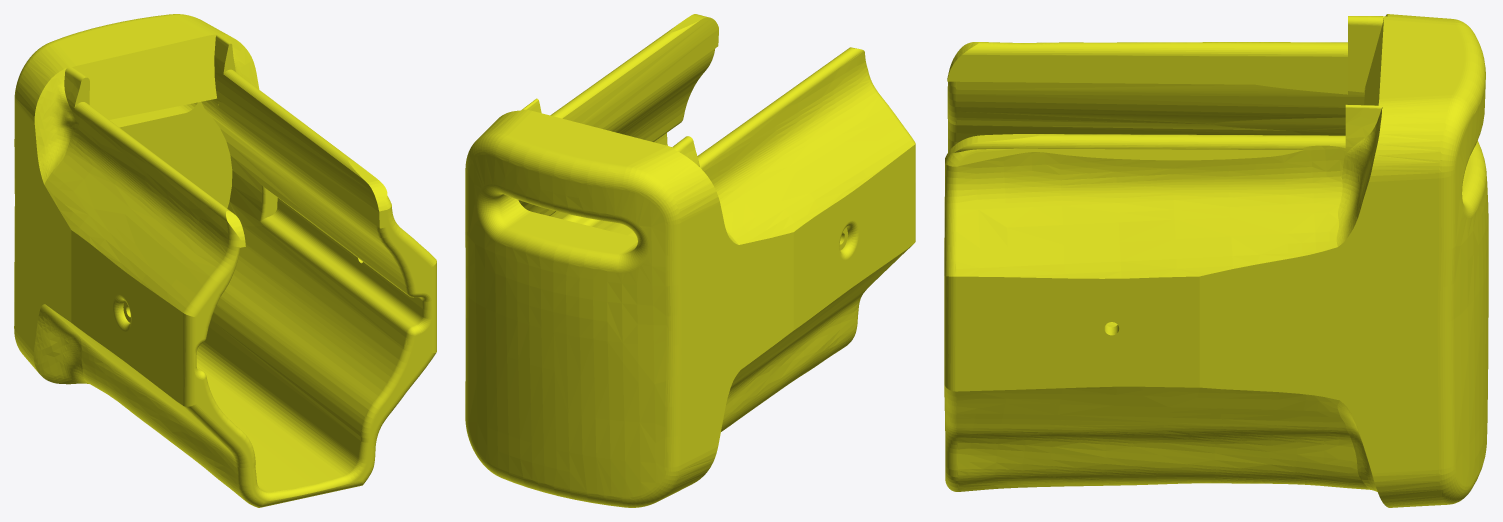
The picture shows the model from 3 angles, left to right: view 1: azimuth 30°, elevation 25°; view 2: azimuth 150°, elevation 25°; view 3: azimuth 270°, elevation 25°; orthographic projection. The views are drawn at different scales.
Visible parts, largest first — view 1: cubierta_motor_1; view 2: cubierta_motor_1; view 3: cubierta_motor_1.
Boxes of the visible parts, x1,y1,x2,y2 form: cubierta_motor_1: [14, 14, 436, 507]; cubierta_motor_1: [465, 14, 915, 507]; cubierta_motor_1: [944, 14, 1488, 507].
Bounding box in the file's own units: 22.91 × 28.08 × 34.34.
